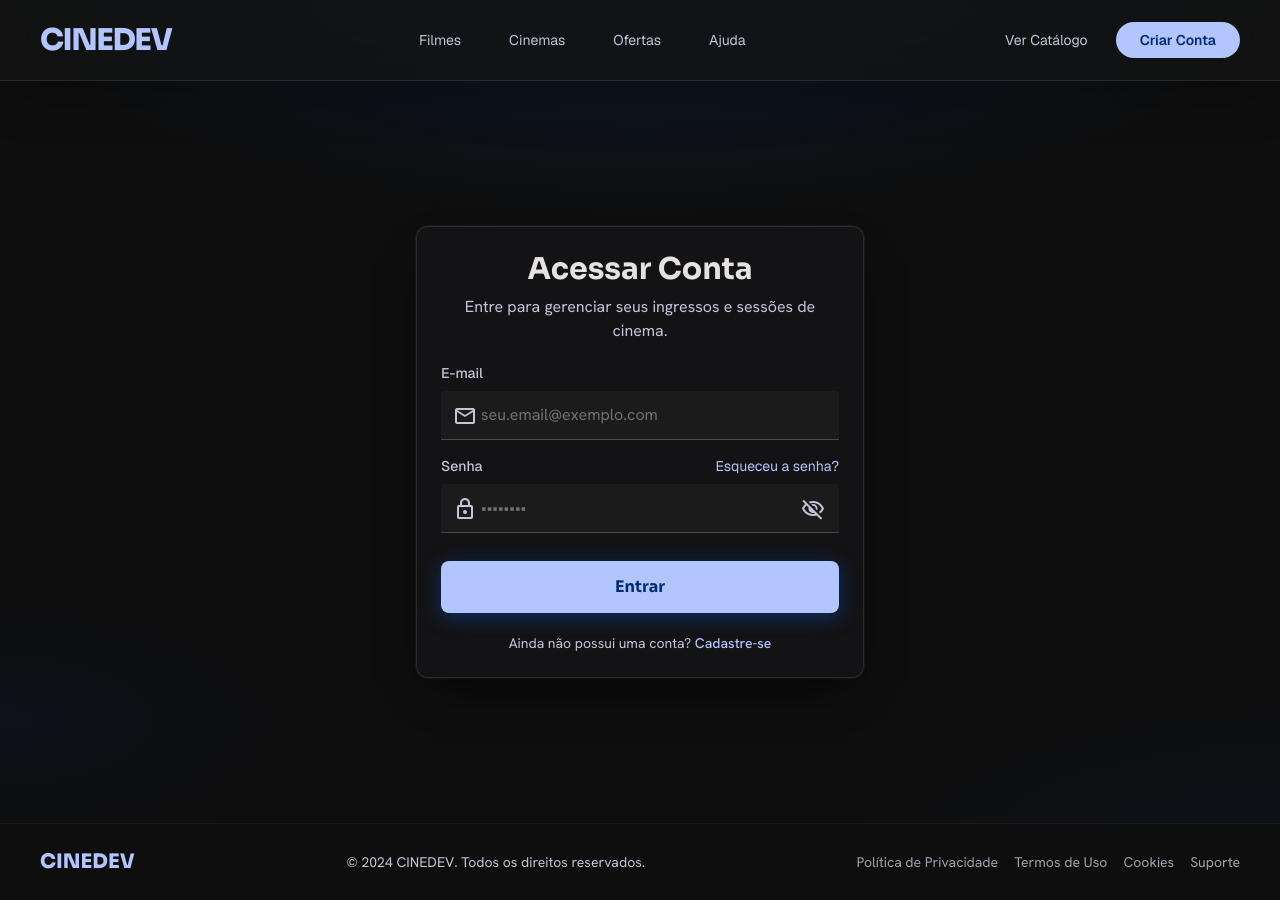
Scenario: LoginPage › shows validation error when submitting with an invalid email format
Type "usuario.com" into the field labelled "E-mail" at (640, 416), box x1=441 y1=391 x2=839 y2=440
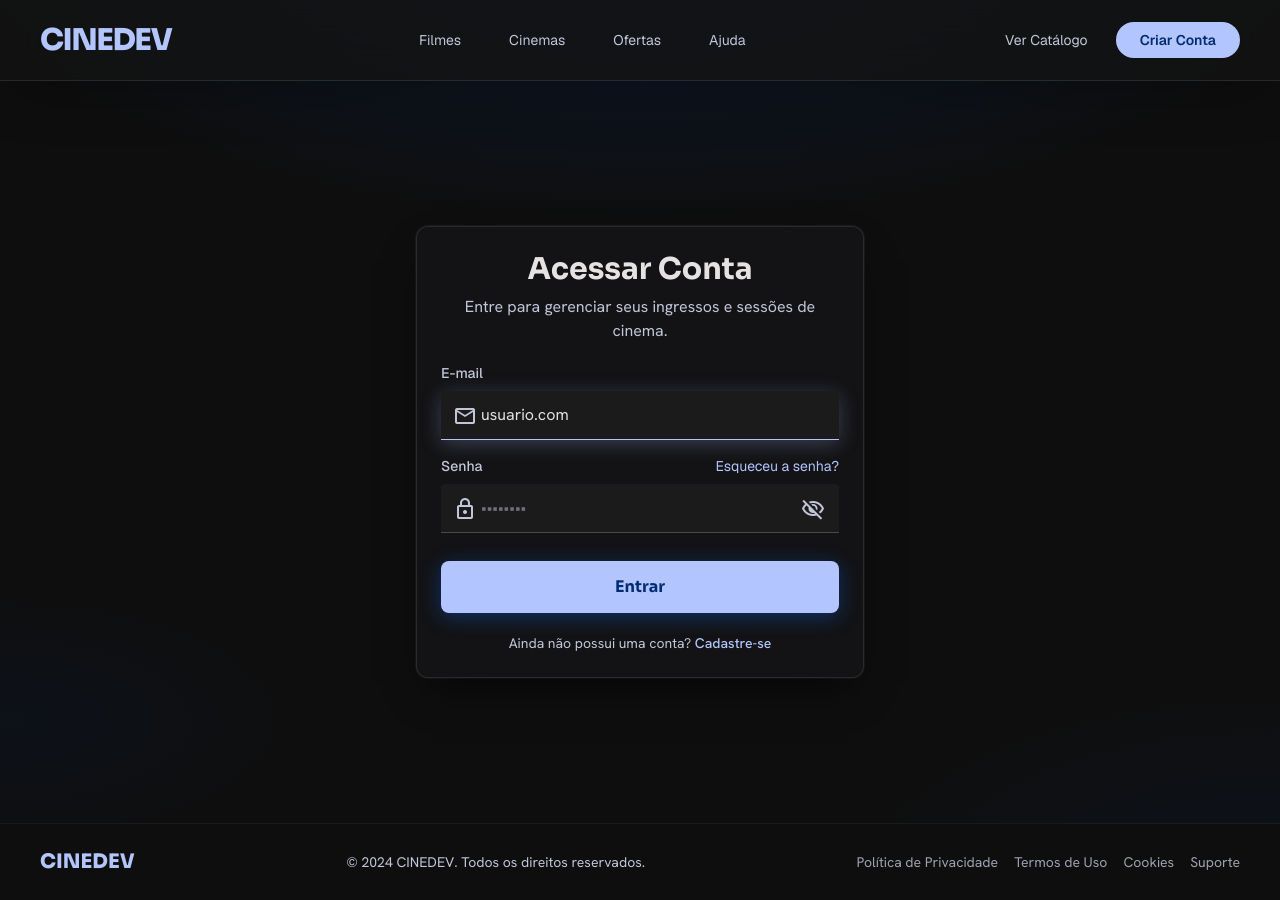
Type "secret123" into the password field labelled "Senha" at (640, 508), box x1=441 y1=484 x2=839 y2=533
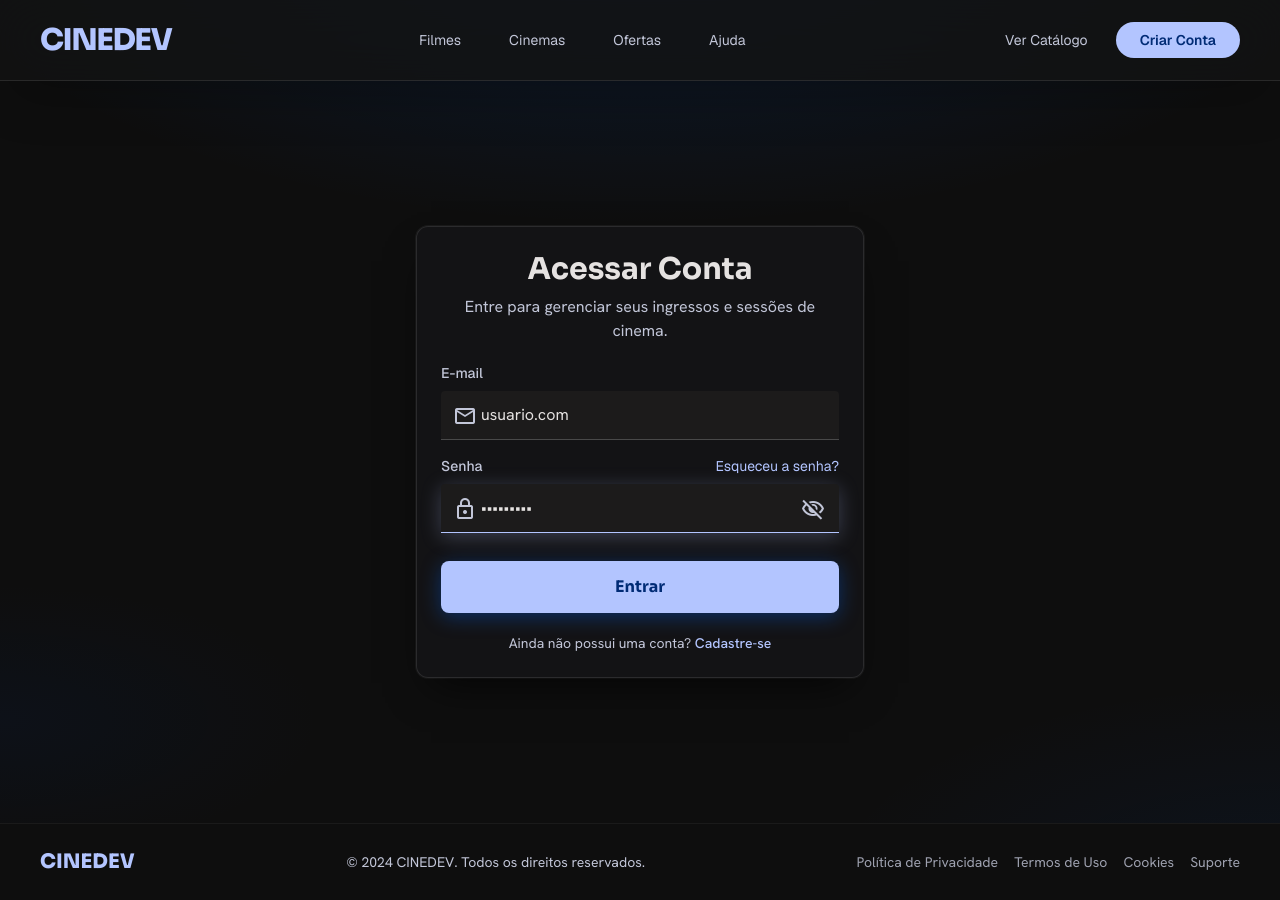
Click the button "Entrar" at (640, 587), box x1=441 y1=561 x2=839 y2=613
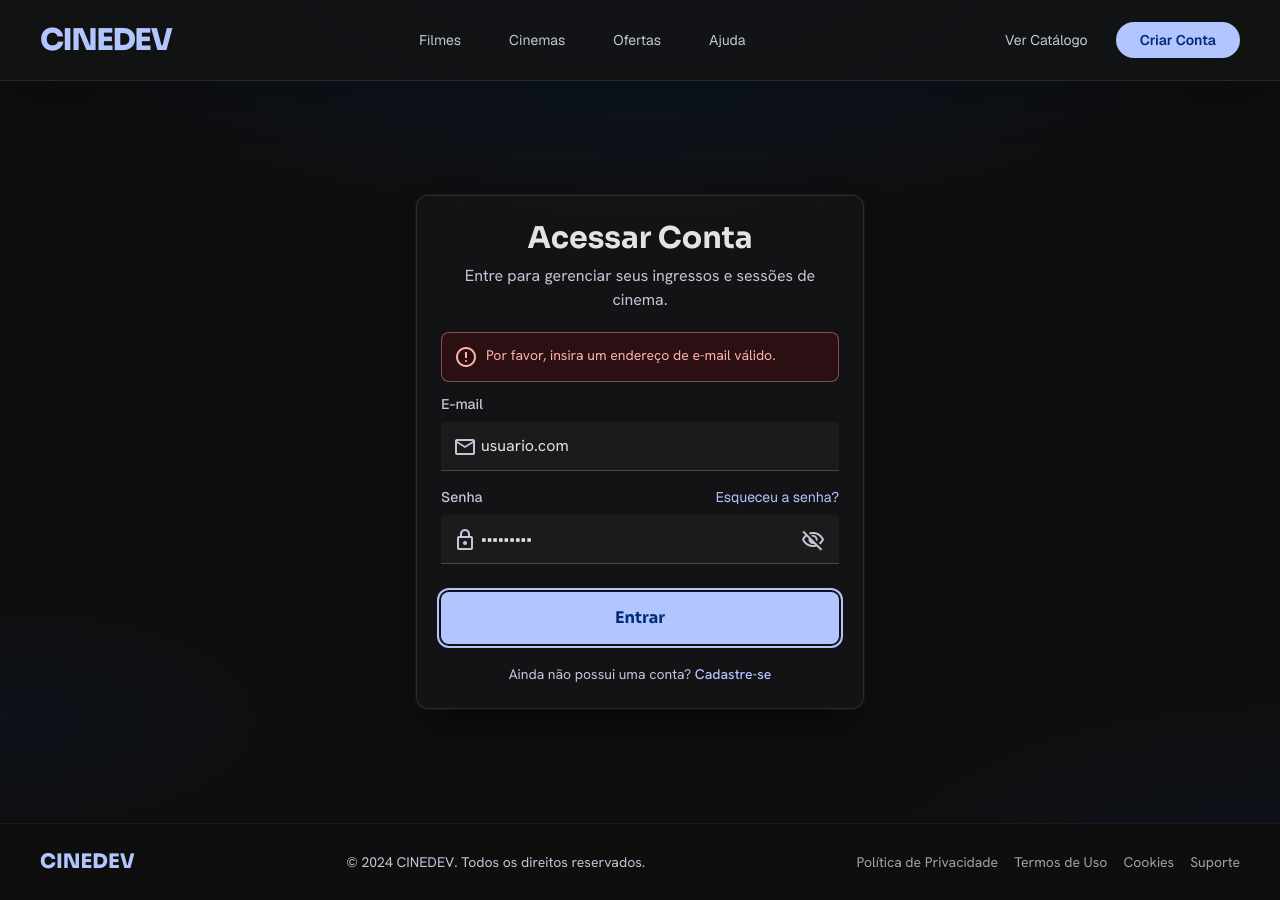
Result: the message reads "Por favor, insira um endereço de e-mail válido." at x1=486 y1=346 x2=776 y2=364
